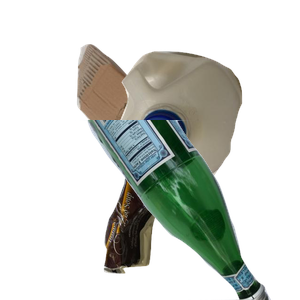cardboard: (74, 42, 225, 170)
glass: (75, 120, 300, 300)
plastic: (108, 49, 300, 226)
trash: (101, 157, 270, 300)
